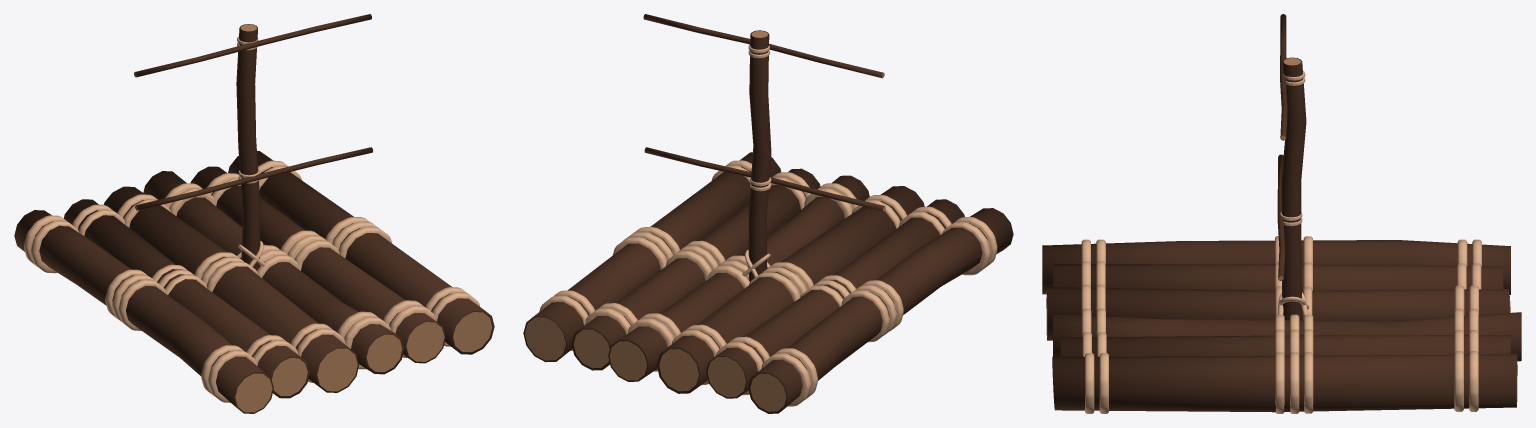
Rendered from Base_Mast2_Raft.fbx.
The picture shows the model from 3 angles, left to right: view 1: azimuth 30°, elevation 25°; view 2: azimuth 150°, elevation 25°; view 3: azimuth 270°, elevation 25°; orthographic projection. The views are drawn at different scales.
Visible parts, largest first — view 1: Base, Mast 1, Mast 2; view 2: Base, Mast 1, Mast 2; view 3: Base, Mast 1, Mast 2.
Part boxes in pixels (left/top/right/bottom): Base: left=14, top=151, right=494, bottom=413; Mast 1: left=236, top=24, right=265, bottom=270; Mast 2: left=134, top=14, right=372, bottom=210; Base: left=523, top=152, right=1013, bottom=413; Mast 1: left=742, top=30, right=771, bottom=281; Mast 2: left=643, top=14, right=885, bottom=211; Base: left=1042, top=236, right=1521, bottom=413; Mast 1: left=1277, top=57, right=1309, bottom=319; Mast 2: left=1277, top=14, right=1287, bottom=280.
Size of the model in its own units: 797 by 776 by 1141.
